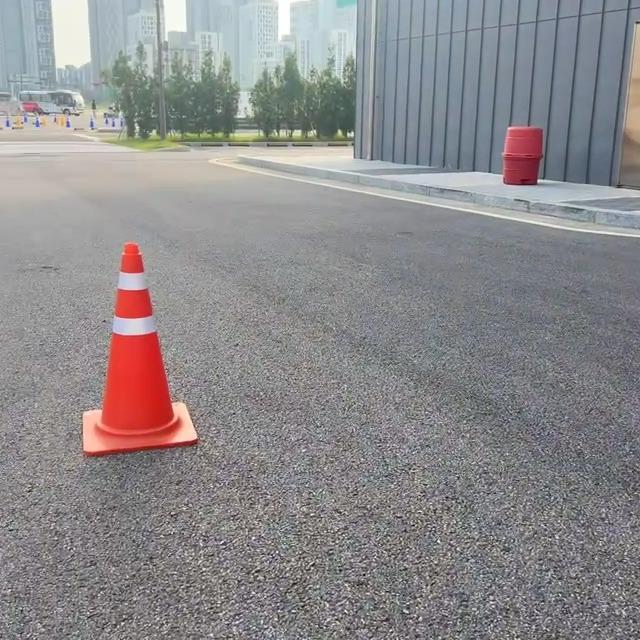fallen_object: (50, 226, 193, 466)
